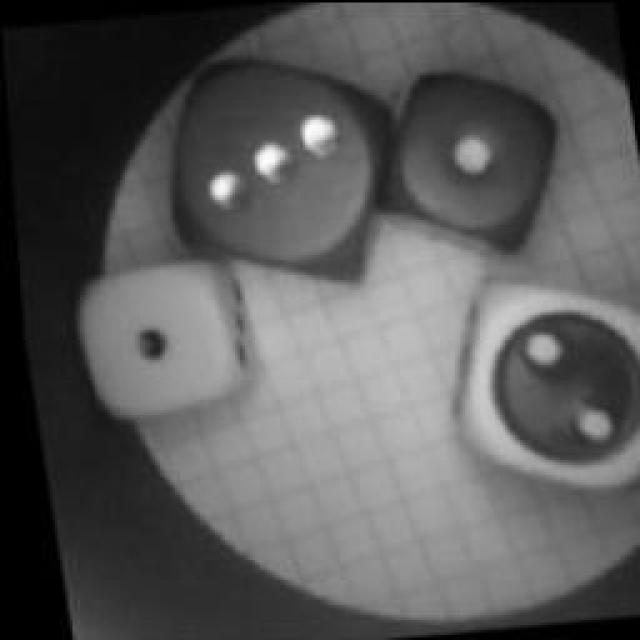dice_1: (354, 48, 578, 264), (46, 235, 266, 430)
dice_2: (415, 254, 640, 508)
dice_3: (142, 38, 408, 302)
